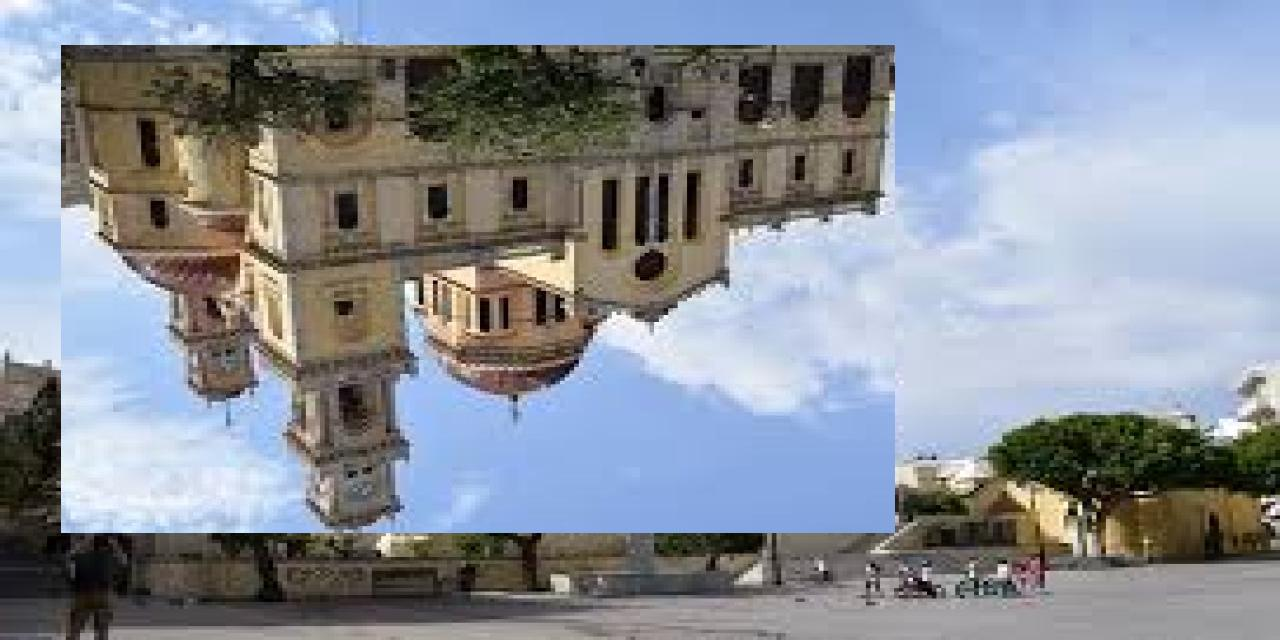Agios Minas: (62, 46, 896, 534)
